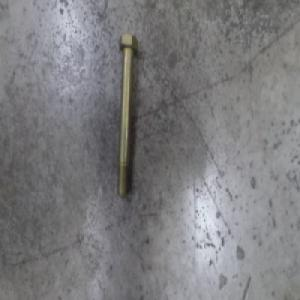Bolt: (115, 29, 138, 200)
